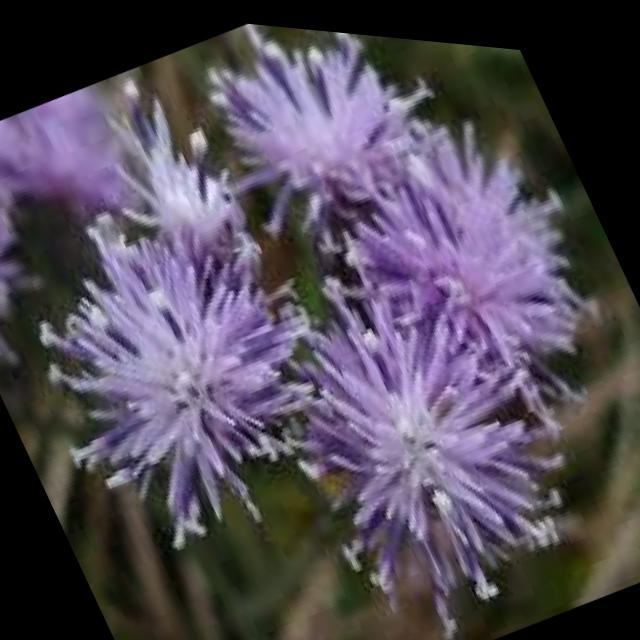Flower: (210, 213, 571, 640), (14, 165, 391, 573), (321, 82, 640, 474), (180, 14, 455, 248)
